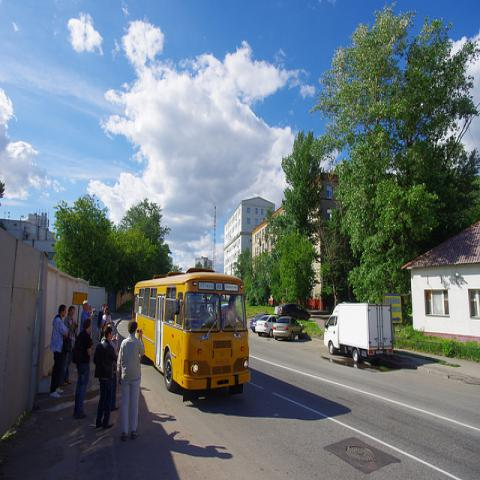bus: (132, 268, 252, 393)
car: (273, 316, 304, 341), (278, 303, 311, 322), (255, 314, 280, 337), (250, 315, 262, 331)
truck: (322, 302, 394, 365)
